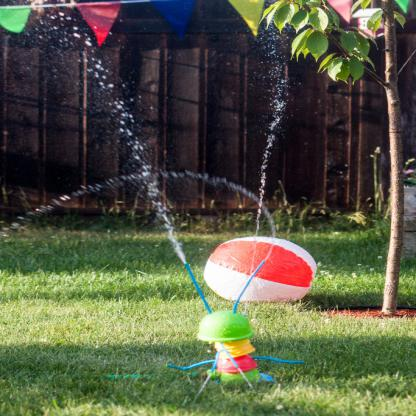Ball: (204, 235, 317, 302)
